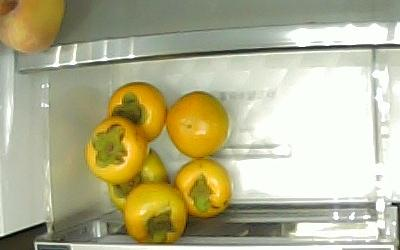persimmon: (165, 92, 229, 158), (108, 148, 170, 214), (86, 119, 145, 182), (125, 184, 187, 243), (108, 82, 166, 141), (173, 160, 232, 217)
